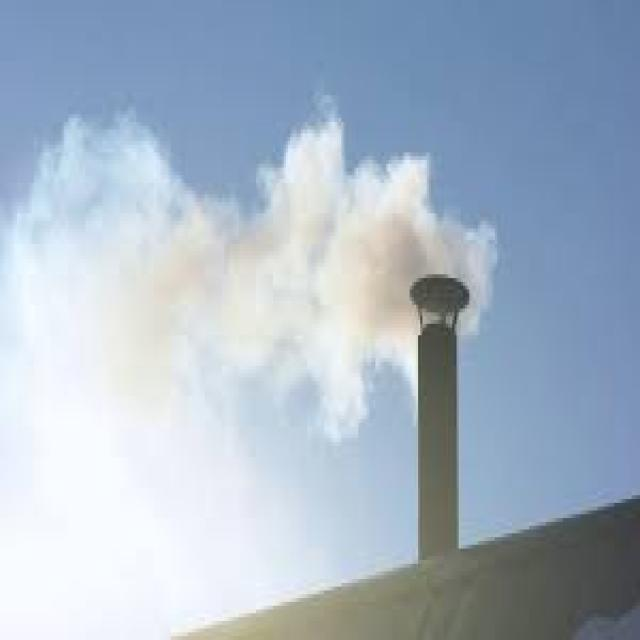smoke: (274, 140, 418, 400)
